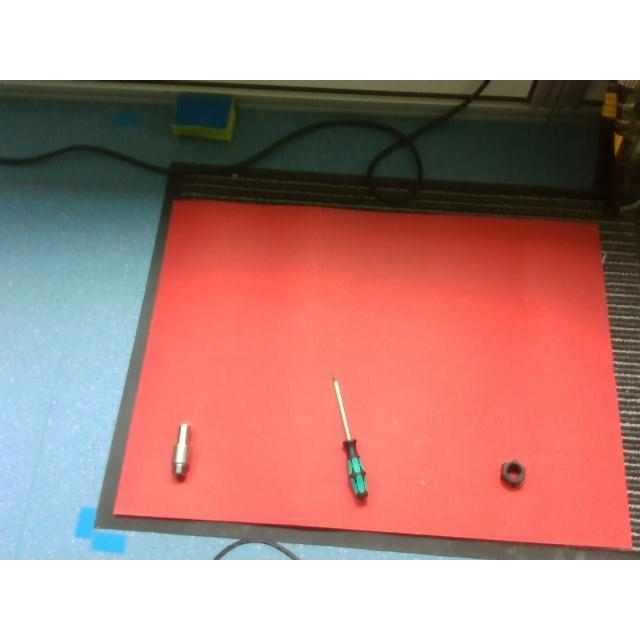Axis2: (170, 424, 193, 481)
M20: (499, 460, 525, 488)
Screwdriver: (332, 374, 368, 498)
